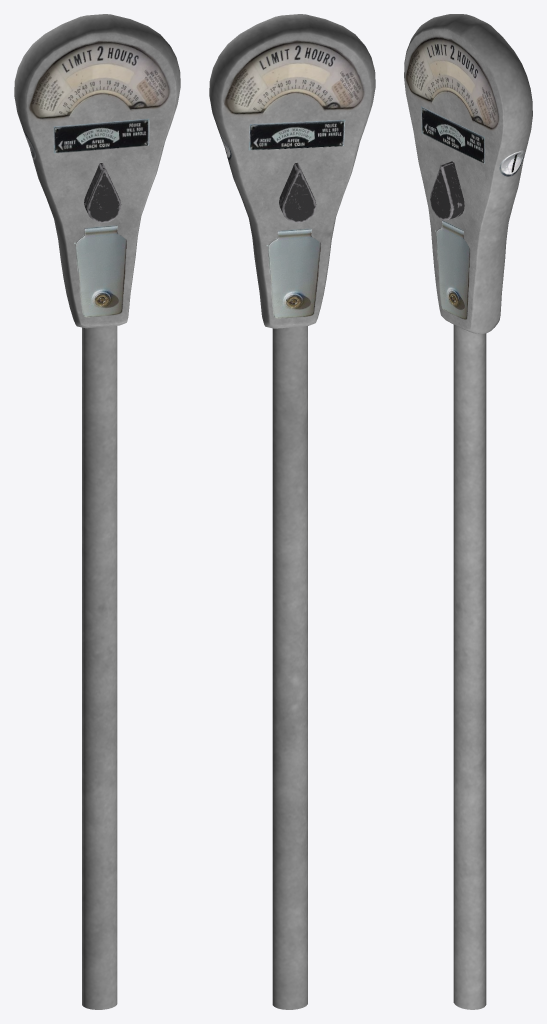
The model's file is Parquimetro.obj.
The picture shows the model from 3 angles, left to right: view 1: azimuth 30°, elevation 25°; view 2: azimuth 210°, elevation 25°; view 3: azimuth 330°, elevation 25°; orthographic projection.
Visible parts, largest first — view 1: ParkingMeter; view 2: ParkingMeter; view 3: ParkingMeter.
Part boxes in pixels (bbox=[...]): ParkingMeter: bbox=[14, 14, 180, 1009]; ParkingMeter: bbox=[209, 14, 375, 1009]; ParkingMeter: bbox=[404, 14, 532, 1009].
Bounding box in the file's own units: 1.98 × 13.34 × 1.06.
